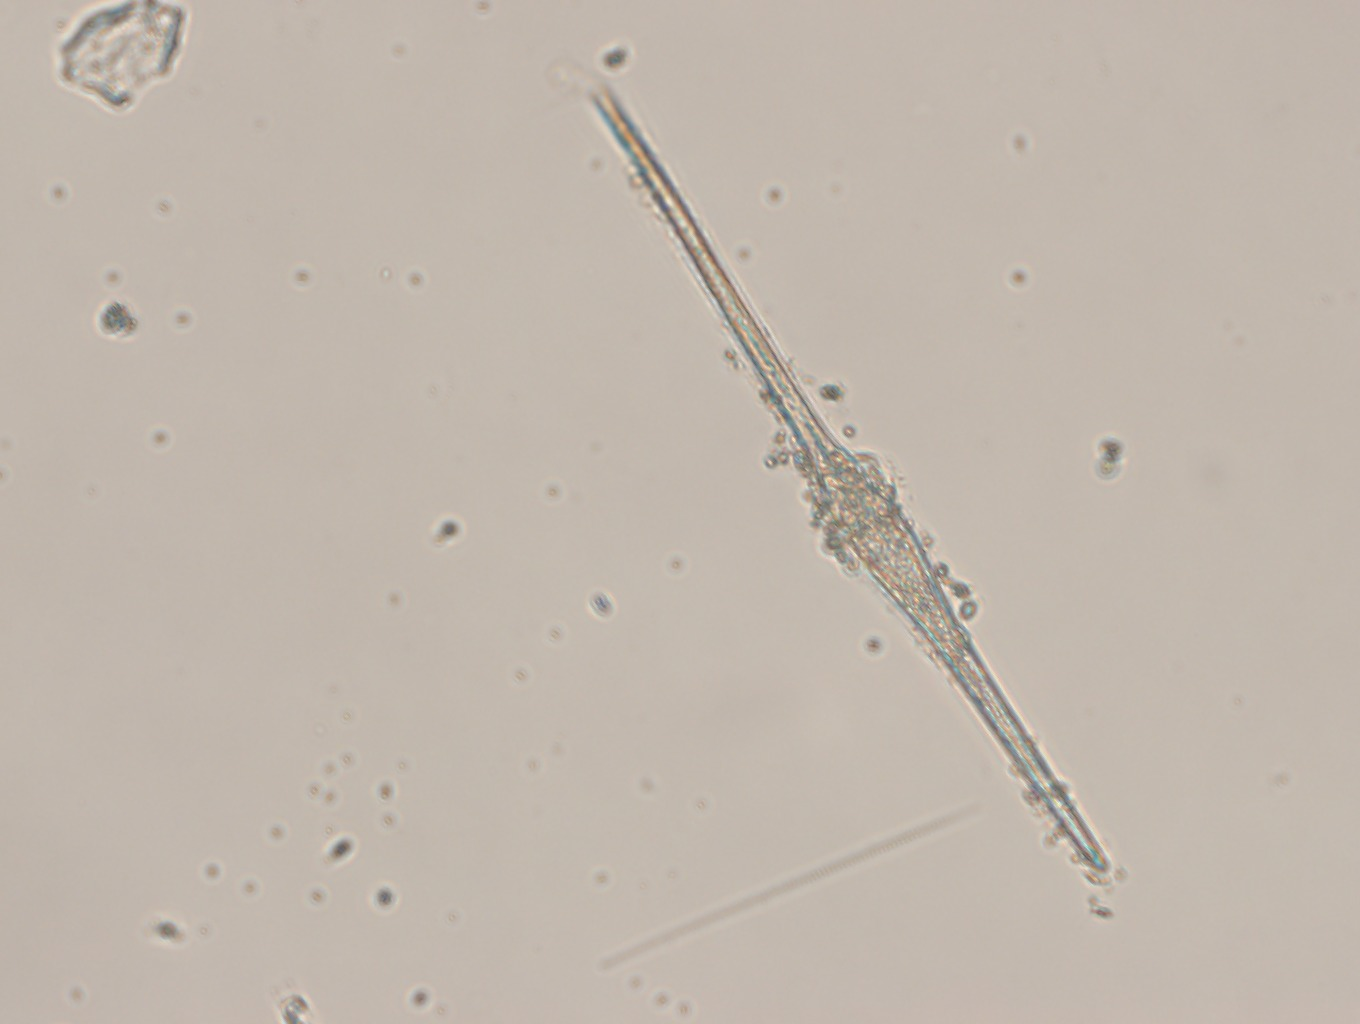ceratium fusus: (579, 74, 1114, 882)
